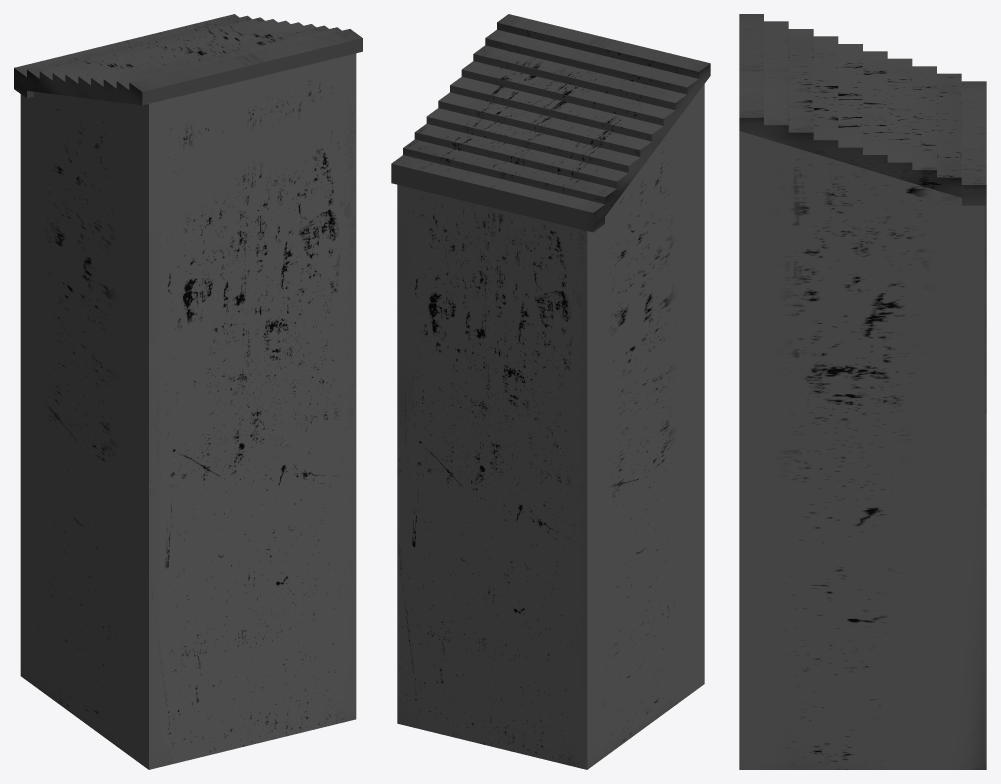
The model's file is Base_Ground_3x3_Stair_V1.fbx.
3 views of the same model, side by side, from view 1: azimuth 30°, elevation 25°; view 2: azimuth 150°, elevation 25°; view 3: azimuth 270°, elevation 25° (orthographic). The views are drawn at different scales.
Parts seen in each view (by area): view 1: Base Ground 3x3 Stair V1; view 2: Base Ground 3x3 Stair V1; view 3: Base Ground 3x3 Stair V1.
Boxes of the visible parts, x1,y1,x2,y2 form: Base Ground 3x3 Stair V1: [14, 14, 362, 769]; Base Ground 3x3 Stair V1: [391, 14, 710, 769]; Base Ground 3x3 Stair V1: [739, 14, 986, 769].
Size of the model in its own units: 298 by 878 by 300.
